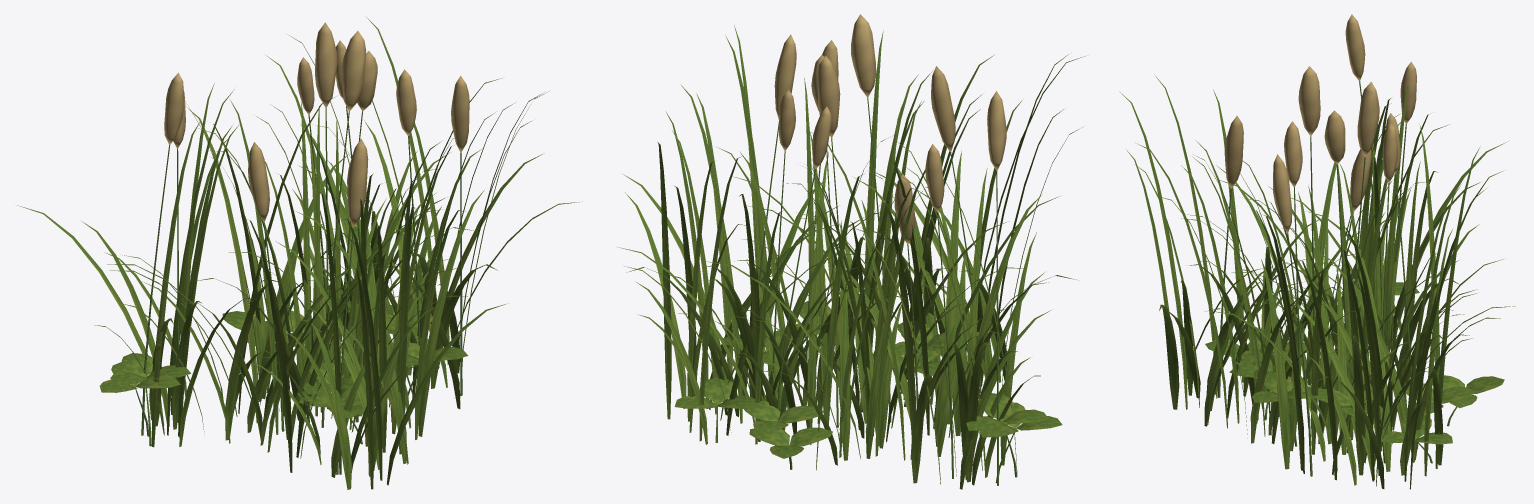
Rendered from m-meadowc.glb.
3 views of the same model, side by side, from view 1: azimuth 30°, elevation 25°; view 2: azimuth 150°, elevation 25°; view 3: azimuth 270°, elevation 25° (orthographic). The views are drawn at different scales.
Parts seen in each view (by area): view 1: PatchFoliage, PatchSeedHeads, PatchStems; view 2: PatchFoliage, PatchSeedHeads, PatchStems; view 3: PatchFoliage, PatchSeedHeads, PatchStems.
Part boxes in pixels (<box>): PatchFoliage: <box>17,17,582,489</box>; PatchSeedHeads: <box>164,22,469,227</box>; PatchStems: <box>135,106,462,474</box>; PatchFoliage: <box>617,25,1085,489</box>; PatchSeedHeads: <box>774,14,1006,244</box>; PatchStems: <box>715,97,1017,485</box>; PatchFoliage: <box>1119,74,1515,489</box>; PatchSeedHeads: <box>1224,14,1416,233</box>; PatchStems: <box>1218,81,1457,476</box>.
Bounding box in the file's own units: 1.18 × 0.95 × 0.9533.
Materials: 3 (1 with a texture image).
